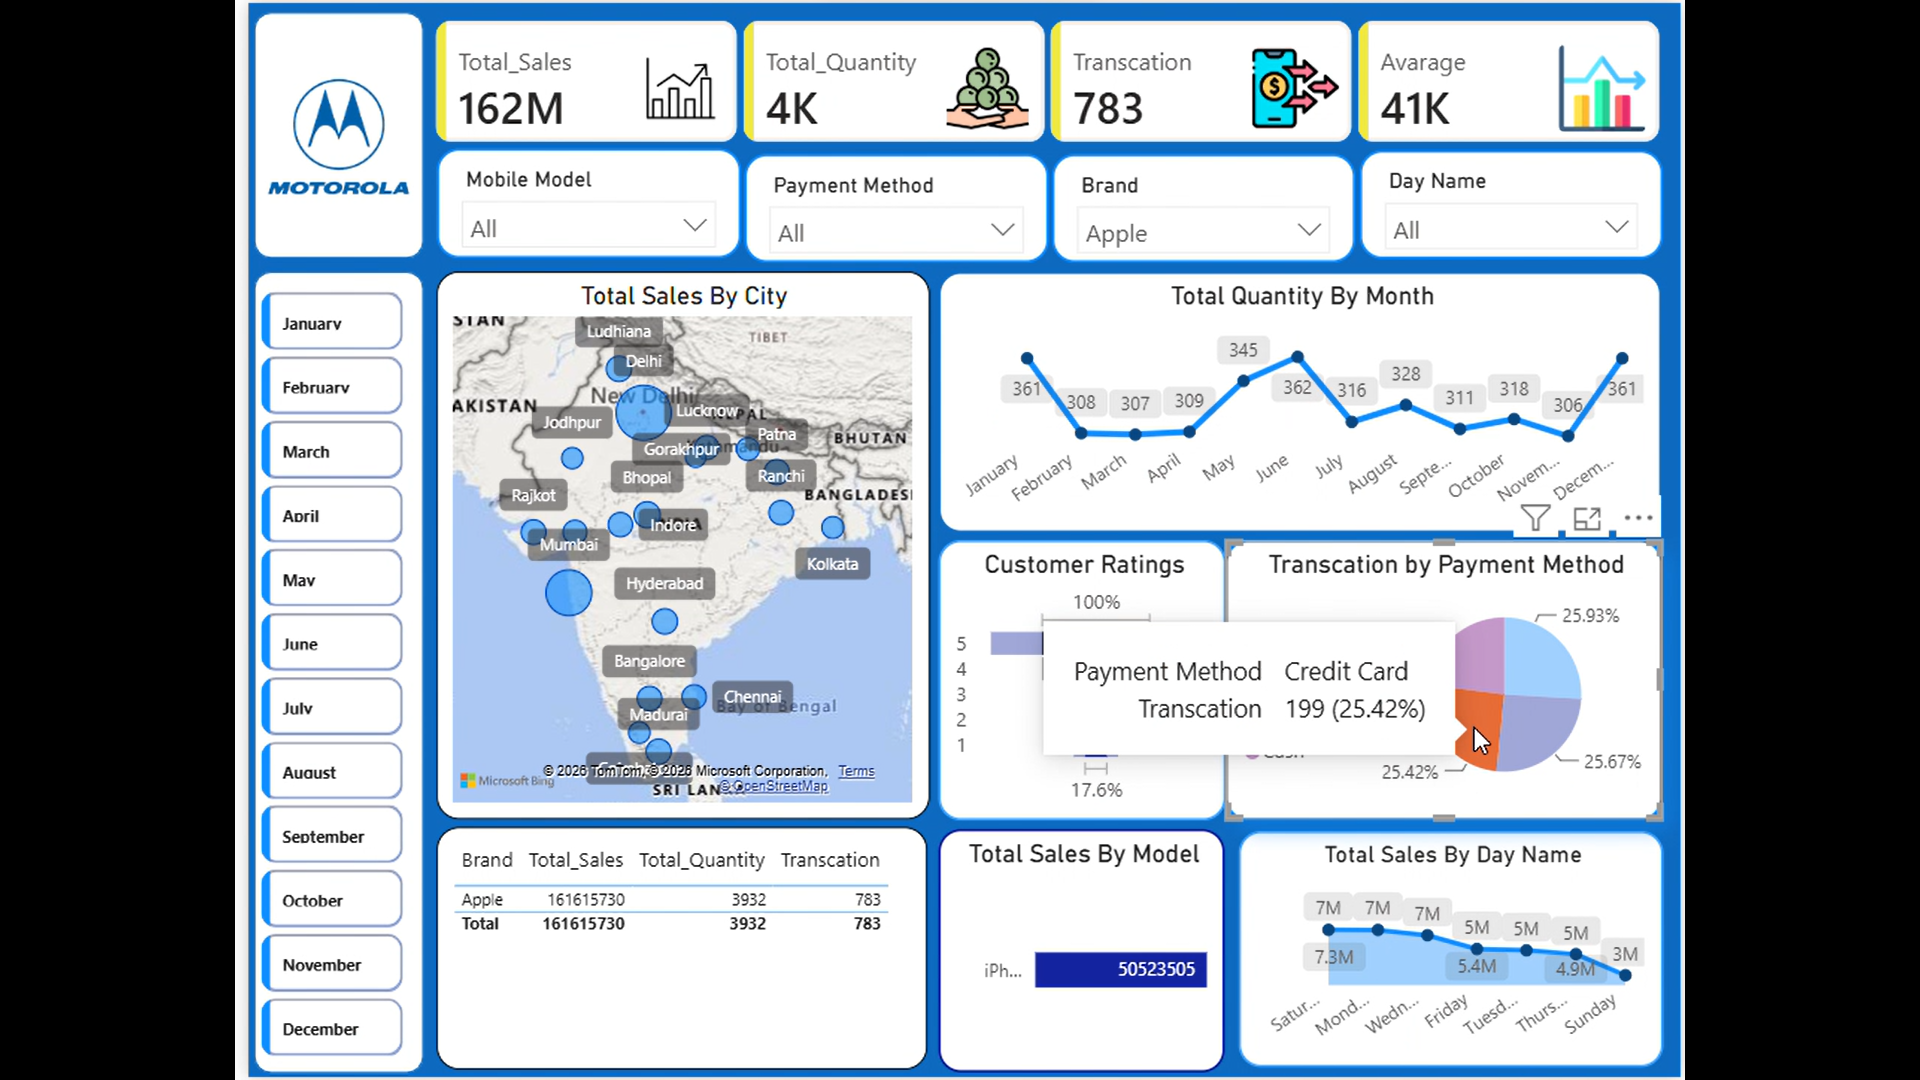

What the dashboard file says about the page in this screenshot:
{"tool":"powerbi","page":{"name":"Page 1","canvas":[960,720],"ordinal":0},"visuals":[{"type":"shape","box":[3.8,6.2,113.8,165],"z":0},{"type":"image","box":[13,13,96,153],"z":1000},{"type":"shape","box":[3.8,180,113.8,537.5],"z":2000},{"type":"advancedSlicerVisual","fields":{"Values":["Custom_calender.Date.Variation.Date Hierarchy.Month"]},"box":[3.6,179.8,106.2,540.5],"z":3000},{"type":"cardVisual","fields":{"Data":["Sales_data.Total_Sales","Sales_data.Total_Quantity","Sales_data.Transcation","Sales_data.Avarage"]},"box":[108.8,0,851.2,112.5],"z":4000},{"type":"slicer","fields":{"Values":["Sales_data.Mobile Model"]},"box":[126.2,97.5,203.8,73.8],"z":5000},{"type":"slicer","fields":{"Values":["Sales_data.Payment Method"]},"box":[332.5,101.2,203.8,72.5],"z":6000},{"type":"slicer","fields":{"Values":["Sales_data.Brand"]},"box":[539,101,203,73],"z":7000},{"type":"slicer","fields":{"Values":["Custom_calender.Day Name"]},"box":[745,99,203,73],"z":8000},{"type":"map","title":"Total Sales By City","fields":{"Category":["Sales_data.City"],"Size":["Sales_data.Total_Sales"]},"box":[126.2,180,330,367.5],"z":9000},{"type":"tableEx","fields":{"Values":["Sales_data.Brand","Sales_data.Total_Sales","Sales_data.Total_Quantity","Sales_data.Transcation"]},"box":[126.2,552.5,328.8,162.5],"z":10000},{"type":"lineChart","title":"Total Quantity By Month","fields":{"Y":["Sales_data.Total_Quantity"],"Category":["Custom_calender.Date.Variation.Date Hierarchy.Month","Custom_calender.Date.Variation.Date Hierarchy.Day"]},"box":[462.5,180,485,175],"z":11000},{"type":"funnel","title":"Customer Ratings","fields":{"Category":["Sales_data.Customer Ratings"],"Y":["CountNonNull(Sales_data.Brand)"]},"box":[462.3,360,193.1,187.7],"z":12000},{"type":"stackedAreaChart","title":"Total Sales By Day Name","fields":{"Y":["Sales_data.Total_Sales"],"Category":["Custom_calender.Day Name"]},"box":[663.8,554.6,284.6,158.5],"z":13000},{"type":"hundredPercentStackedBarChart","title":"Total Sales By Model","fields":{"Category":["Sales_data.Mobile Model"],"Y":["Sales_data.Total_Sales"]},"box":[462.3,553.8,192.3,163.1],"z":14000},{"type":"pieChart","fields":{"Y":["Sales_data.Transcation"],"Category":["Sales_data.Payment Method"]},"box":[663.5,359.5,284.7,188.2],"z":15000}]}

Visuals, with their boxes in screenshot pixels (x1, y1, x2, y2):
shape: region(251, 9, 419, 253)
image: region(264, 19, 406, 246)
shape: region(251, 266, 419, 1061)
advancedSlicerVisual - Custom_calender.Date.Variation.Date Hierarchy.Month: region(250, 266, 407, 1066)
cardVisual - Sales_data.Total_Sales x Sales_data.Total_Quantity: region(406, 0, 1665, 166)
slicer - Sales_data.Mobile Model: region(432, 144, 733, 253)
slicer - Sales_data.Payment Method: region(737, 150, 1038, 257)
slicer - Sales_data.Brand: region(1042, 149, 1343, 257)
slicer - Custom_calender.Day Name: region(1347, 146, 1647, 254)
"Total Sales By City" map: region(432, 266, 920, 810)
tableEx - Sales_data.Brand x Sales_data.Total_Sales: region(432, 817, 918, 1058)
"Total Quantity By Month" lineChart: region(929, 266, 1647, 525)
"Customer Ratings" funnel: region(929, 533, 1215, 810)
"Total Sales By Day Name" stackedAreaChart: region(1227, 820, 1648, 1055)
"Total Sales By Model" hundredPercentStackedBarChart: region(929, 819, 1213, 1060)
pieChart - Sales_data.Transcation x Sales_data.Payment Method: region(1226, 532, 1648, 810)
